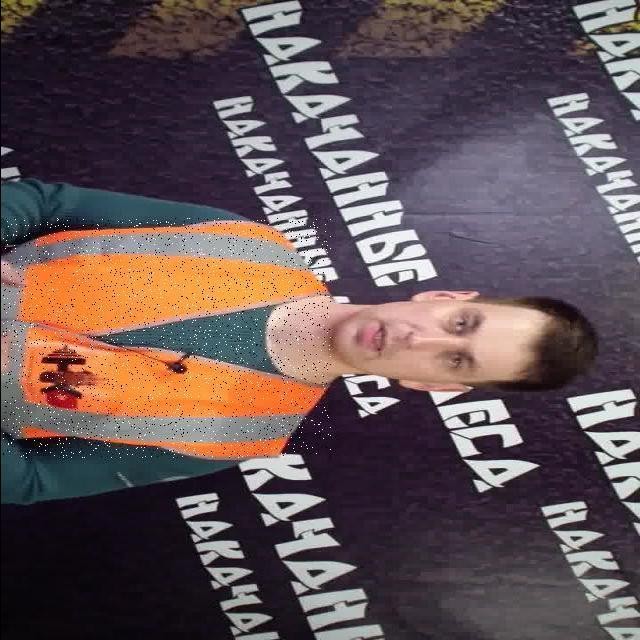vest: (2, 218, 330, 458)
